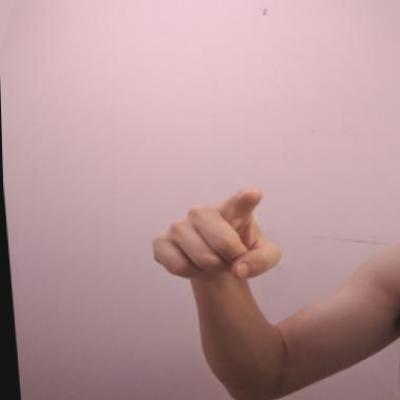hand: (142, 180, 286, 287)
